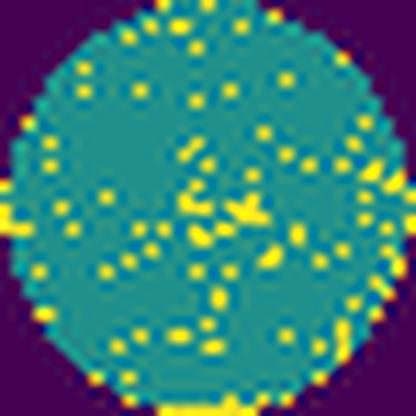Edge-Loc: (153, 390, 264, 416)
